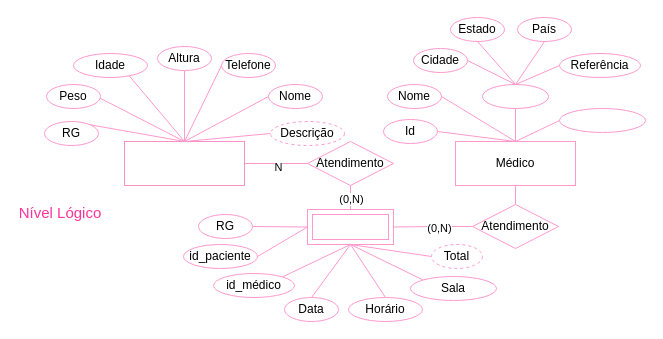
The diagram is 663 pixels wide and 339 high, and some of its shapes have lost their labels. The centre of each missing label's shape, as x and y in pixels:
"Consulta" goes at point (350, 226).
"Endereço" goes at point (515, 96).
"Especialização" goes at point (602, 120).
"Paciente" goes at point (184, 163).
